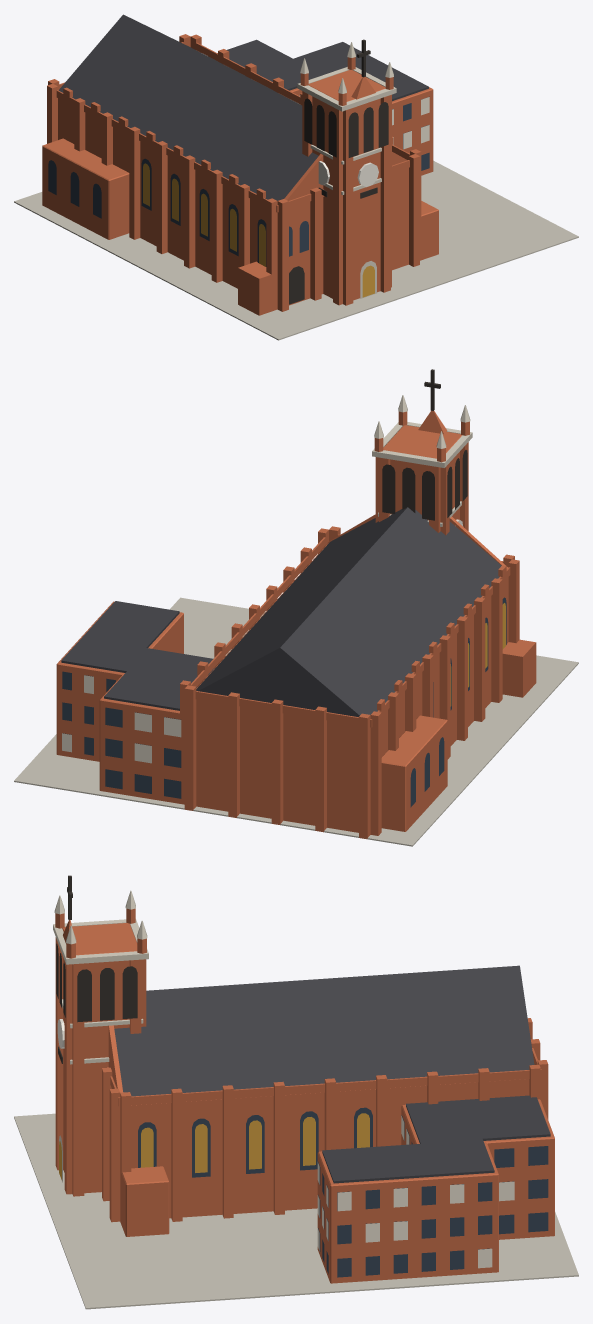
Rendered from old-saint-marys-cathedral.glb.
The picture shows the model from 3 angles, top to bottom: view 1: azimuth 30°, elevation 25°; view 2: azimuth 150°, elevation 25°; view 3: azimuth 270°, elevation 25°; orthographic projection. The views are drawn at different scales.
Parts seen in each view (by area): view 1: old-saint-marys-cathedral_body, old-saint-marys-cathedral_night_glow; view 2: old-saint-marys-cathedral_body, old-saint-marys-cathedral_night_glow; view 3: old-saint-marys-cathedral_body, old-saint-marys-cathedral_night_glow.
Boxes of the visible parts, box(x1,y1,x2,y2) form: old-saint-marys-cathedral_body: box(14, 14, 578, 340); old-saint-marys-cathedral_night_glow: box(143, 95, 429, 297); old-saint-marys-cathedral_body: box(14, 369, 578, 846); old-saint-marys-cathedral_night_glow: box(62, 520, 505, 763); old-saint-marys-cathedral_body: box(14, 875, 578, 1309); old-saint-marys-cathedral_night_glow: box(57, 1019, 514, 1268).
Bounding box in the file's own units: 53.26 × 33.65 × 56.58.
